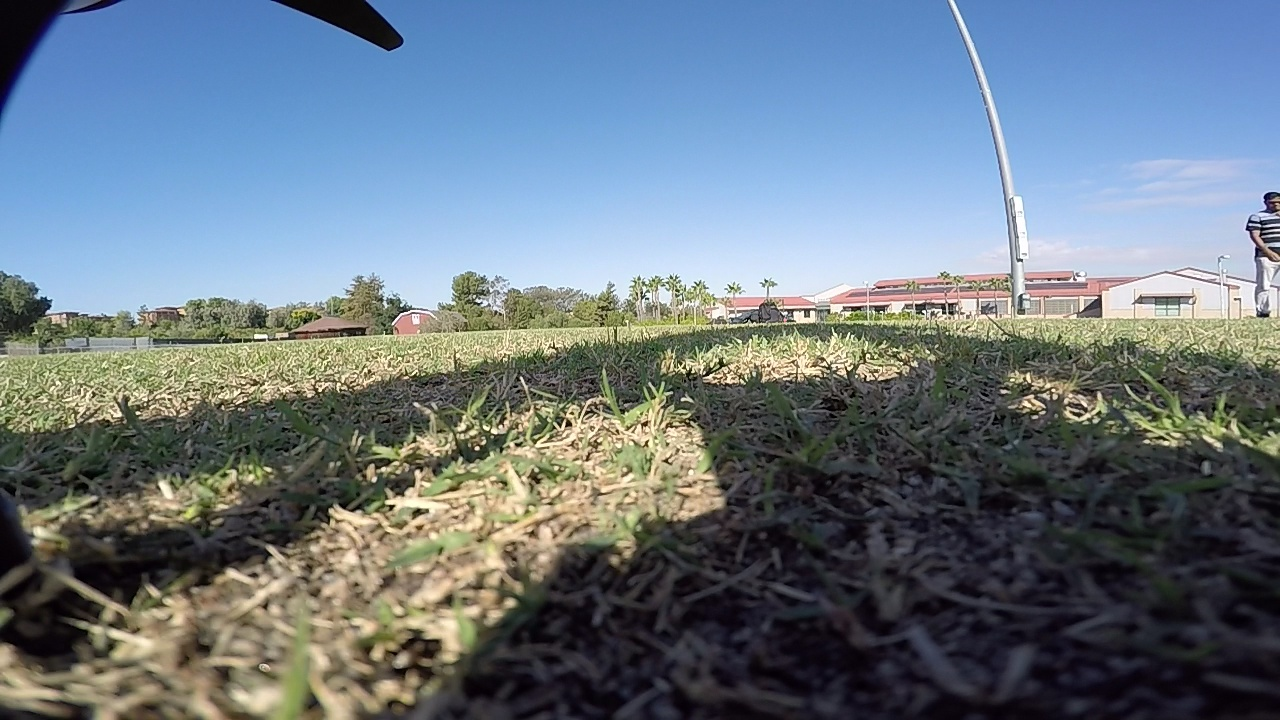person: (1244, 184, 1280, 301)
